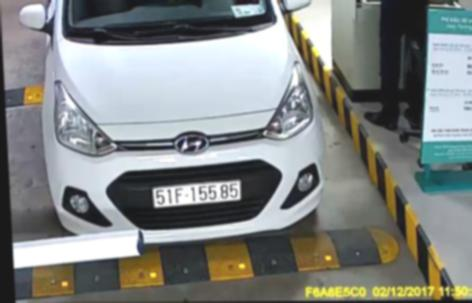License_Plate: (147, 180, 248, 209)
